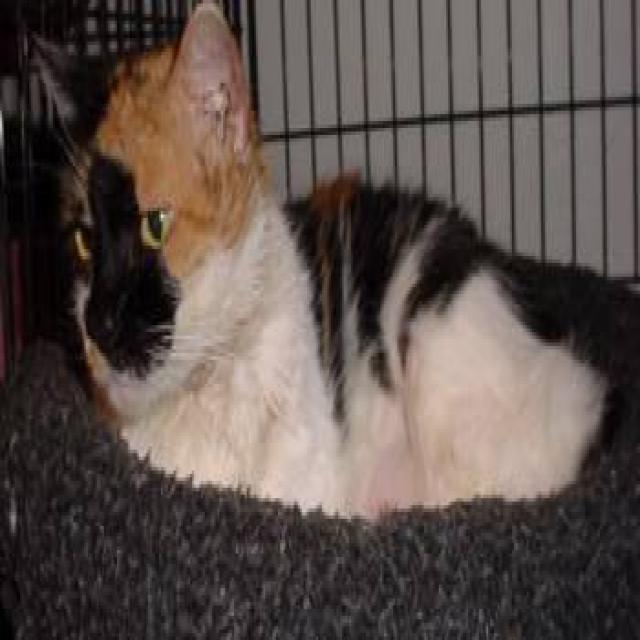cat: (61, 0, 636, 519)
